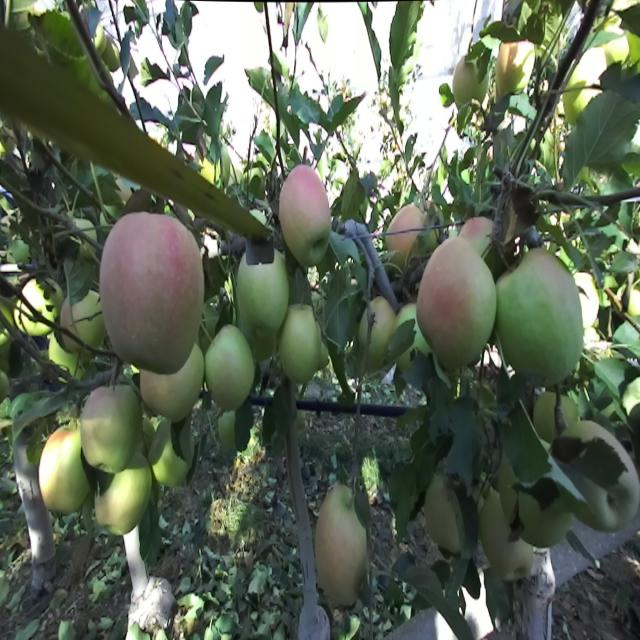apple: (100, 211, 204, 376), (496, 246, 584, 386), (416, 236, 496, 370), (556, 419, 640, 530), (501, 450, 569, 546), (315, 483, 367, 607), (80, 384, 140, 472), (280, 163, 330, 264), (479, 495, 532, 583), (39, 428, 90, 514), (95, 458, 151, 534), (238, 246, 288, 330), (206, 326, 255, 409), (140, 358, 201, 416), (277, 302, 319, 386), (385, 202, 432, 269), (151, 418, 195, 486), (424, 478, 463, 554), (15, 276, 61, 337), (61, 289, 102, 355), (391, 305, 429, 366), (359, 298, 394, 358), (496, 42, 534, 94), (452, 55, 490, 103), (535, 394, 578, 434), (50, 338, 82, 382), (462, 218, 494, 254), (220, 412, 238, 448)
